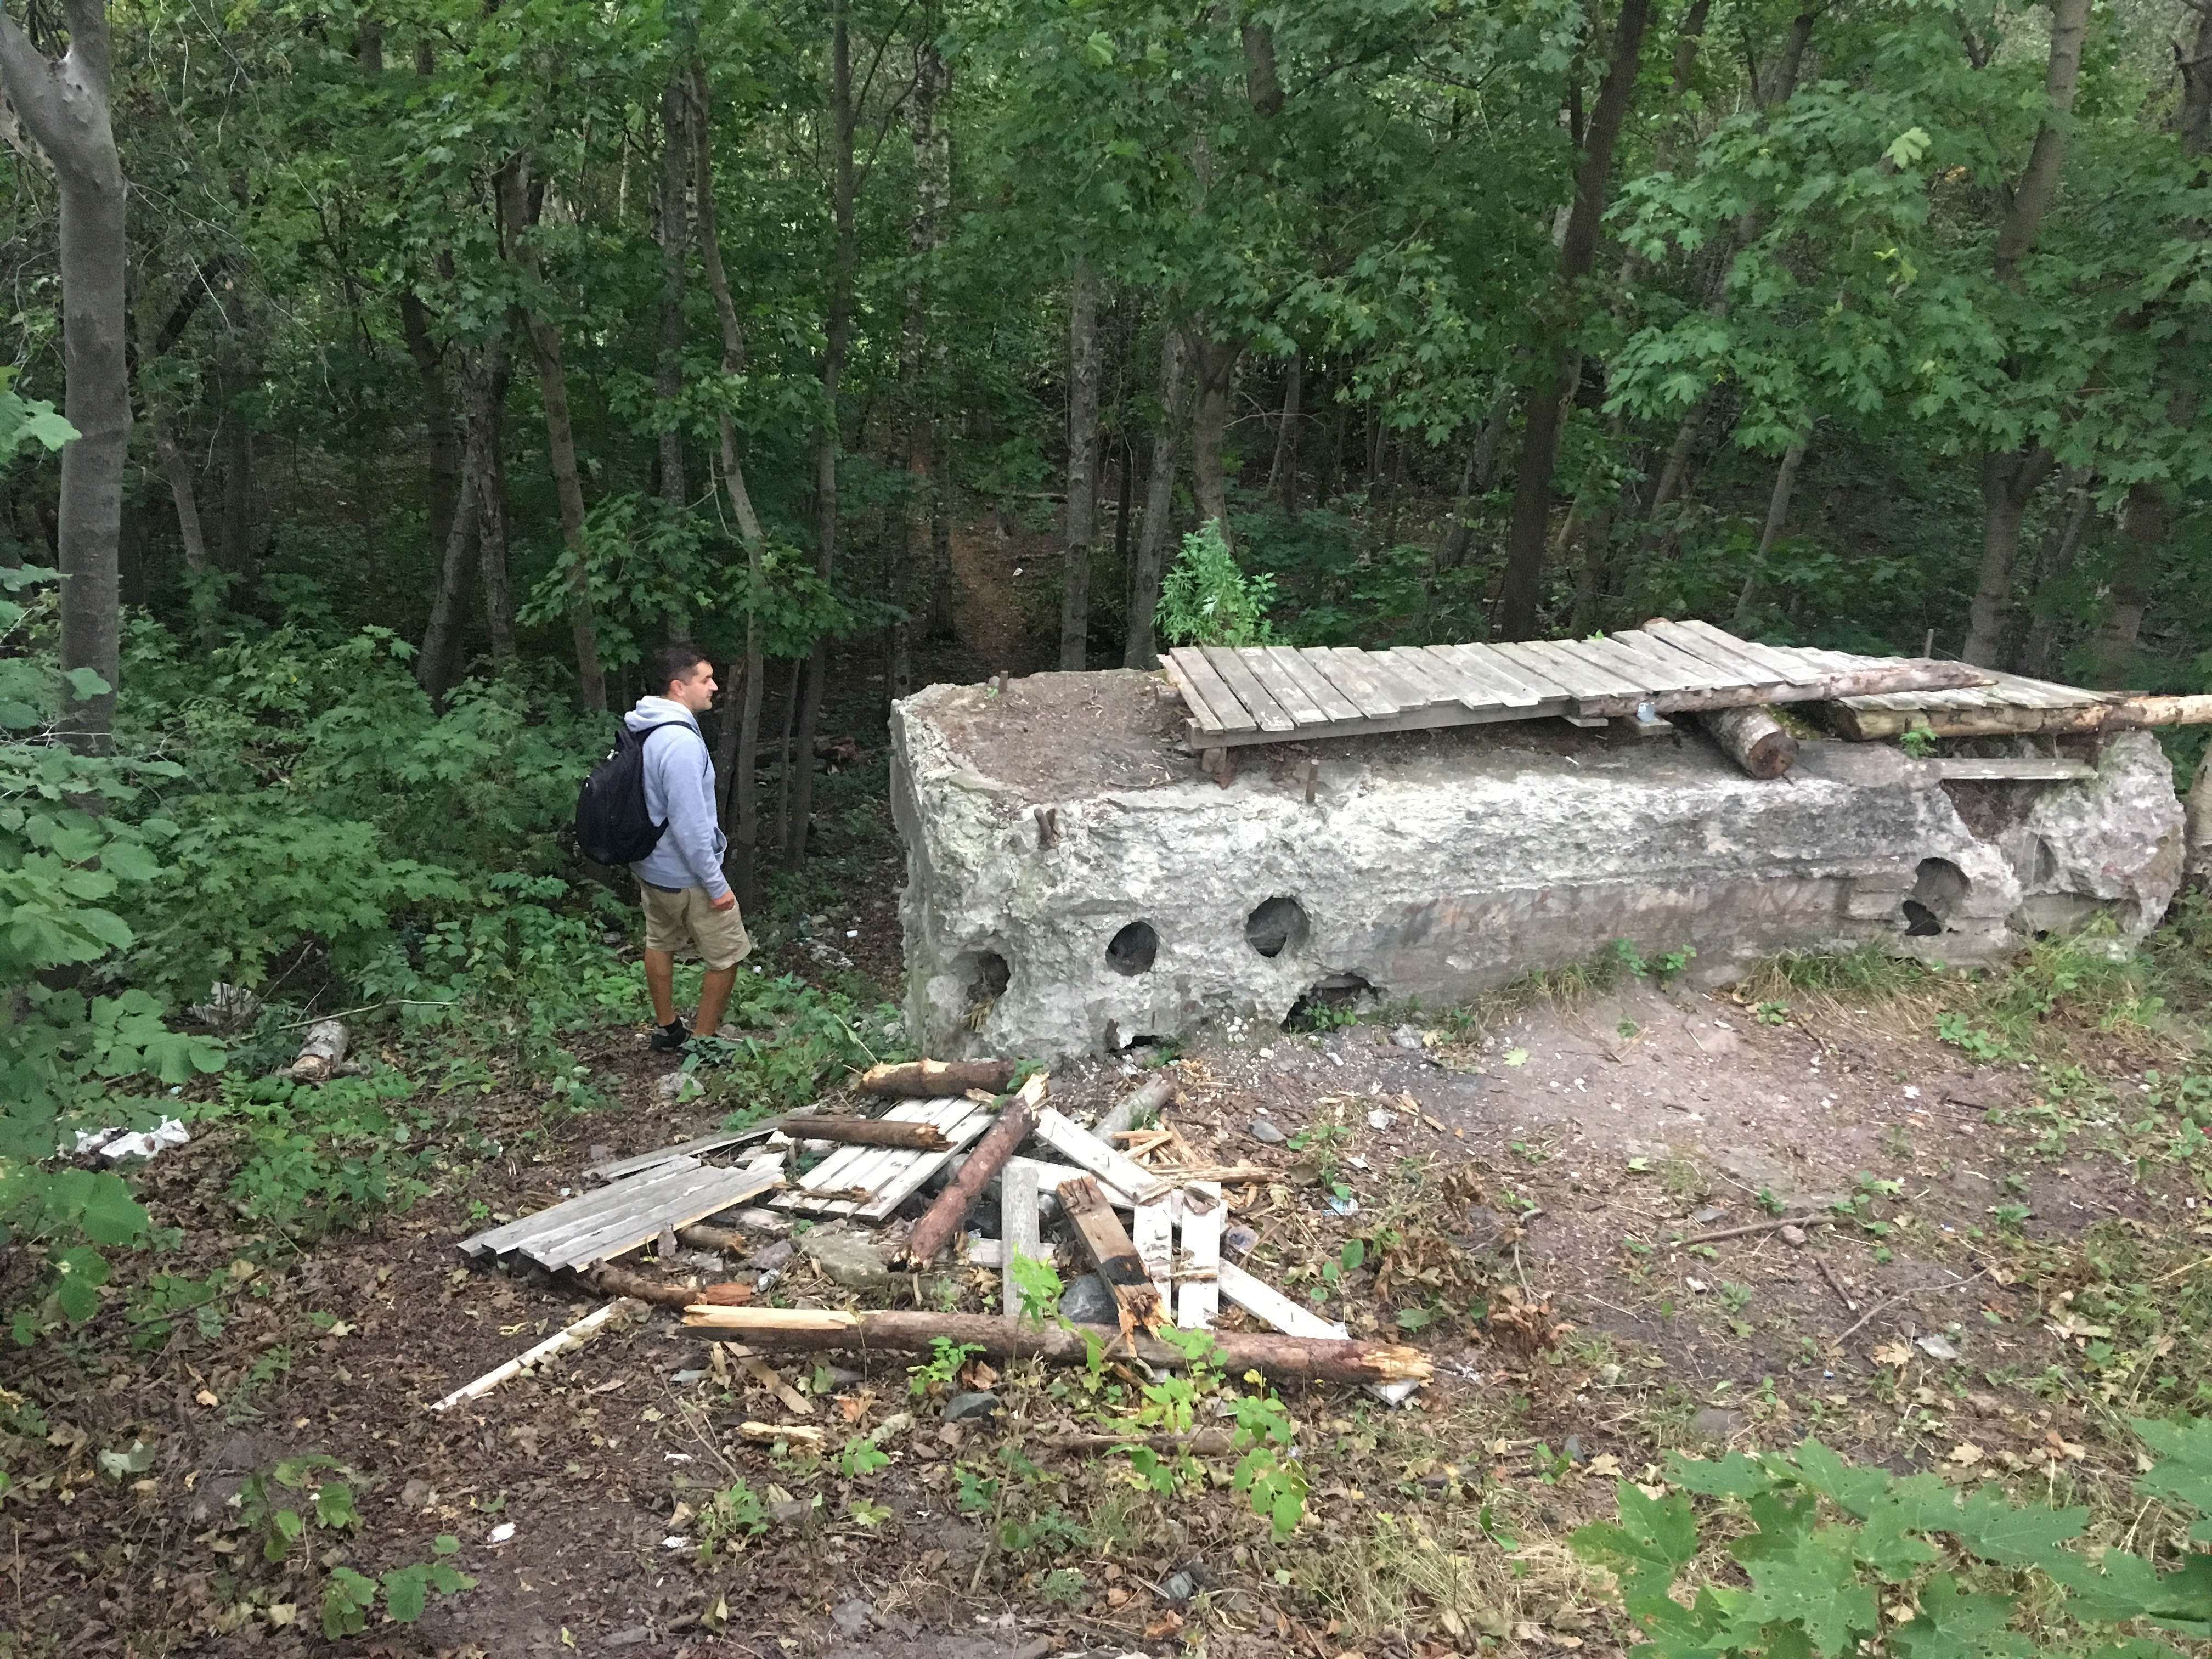trash: (404, 1009, 1331, 1441), (30, 1093, 193, 1192), (270, 983, 364, 1093)
